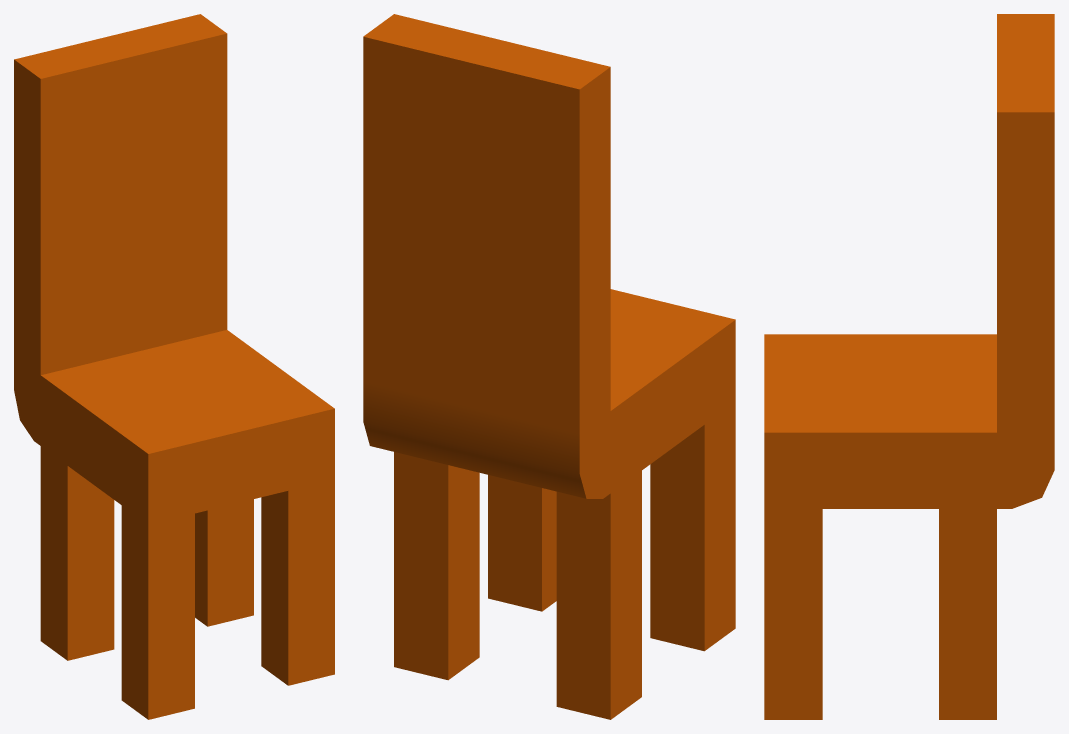
The model's file is Chair.fbx.
The picture shows the model from 3 angles, left to right: view 1: azimuth 30°, elevation 25°; view 2: azimuth 150°, elevation 25°; view 3: azimuth 270°, elevation 25°; orthographic projection. The views are drawn at different scales.
Parts seen in each view (by area): view 1: Chair; view 2: Chair; view 3: Chair.
Part boxes in pixels (box(x1,y1,x2,y2)): Chair: box(14, 14, 334, 719); Chair: box(363, 14, 735, 719); Chair: box(764, 14, 1054, 719).
Bounding box in the file's own units: 200 × 576 × 250.
